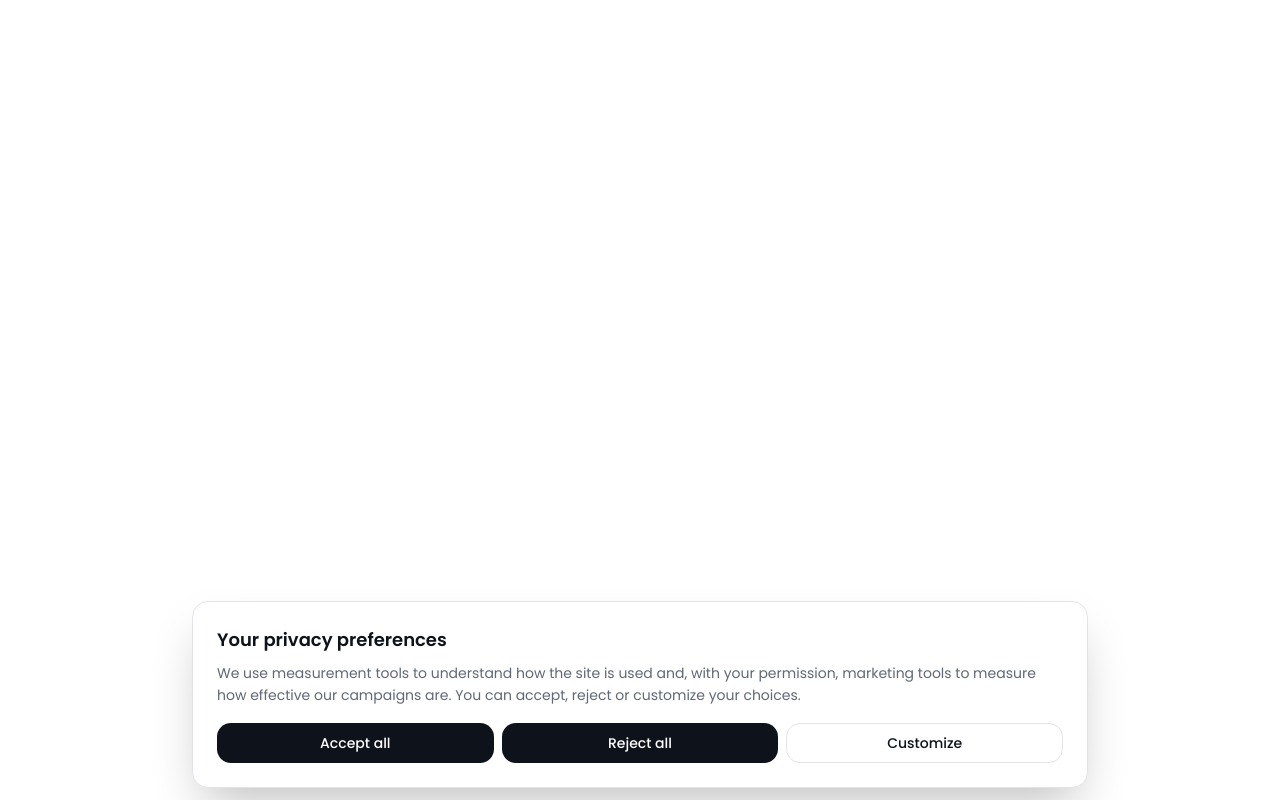
Test: public consent UI › renders the English choice and preferences without changing categories
Check: the button "Accept all" is shown, box [217, 723, 494, 763]
Check: the button "Reject all" is shown, box [502, 723, 778, 763]
Click the button "Customize".
click(925, 743)  # box [786, 723, 1063, 763]
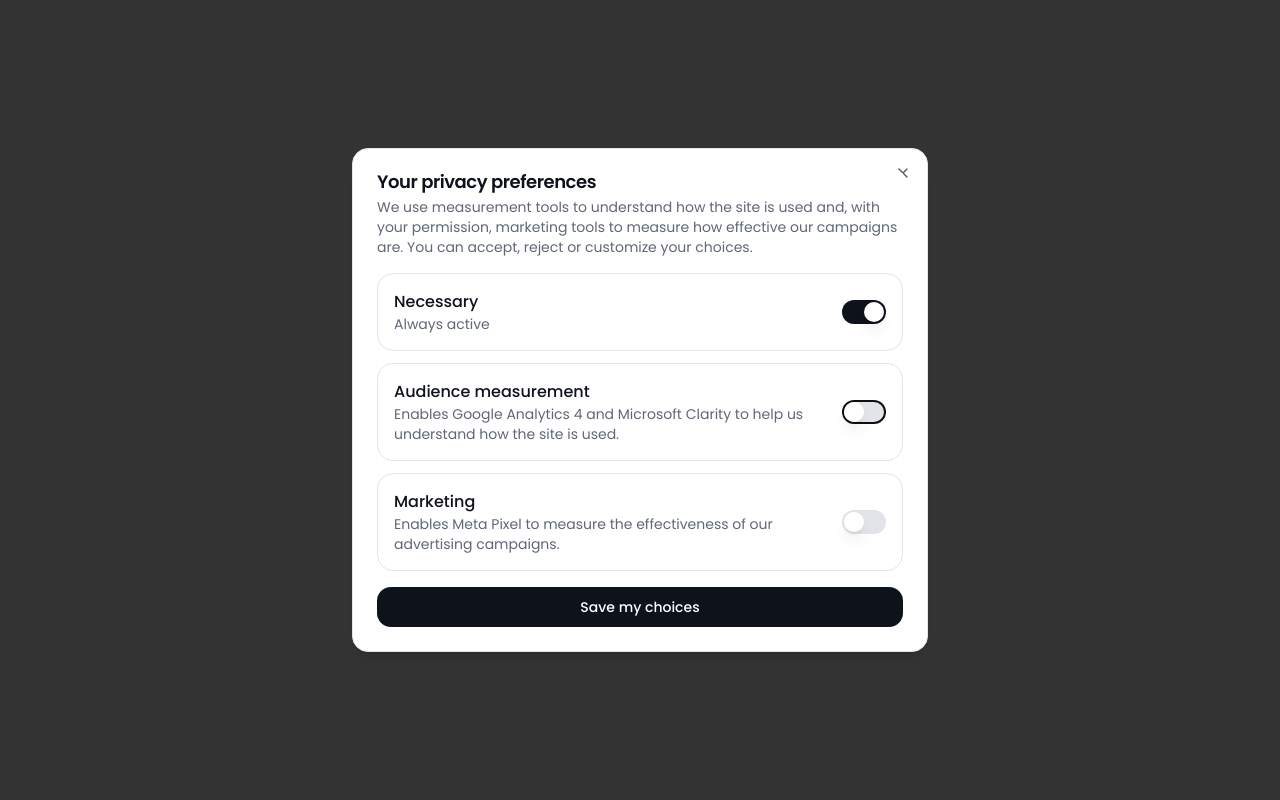
Check: the switch named "Audience measurement" is shown, box [842, 400, 886, 424]
Check: the switch named "Marketing" is shown, box [842, 510, 886, 534]
